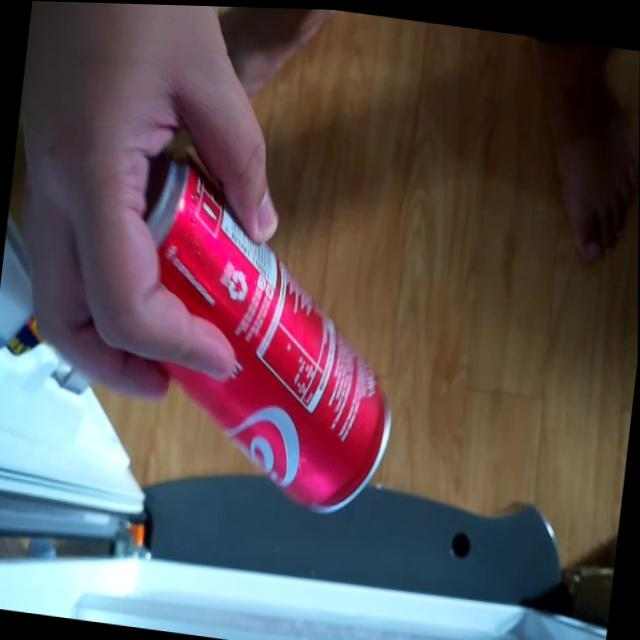coke: (115, 152, 425, 523)
